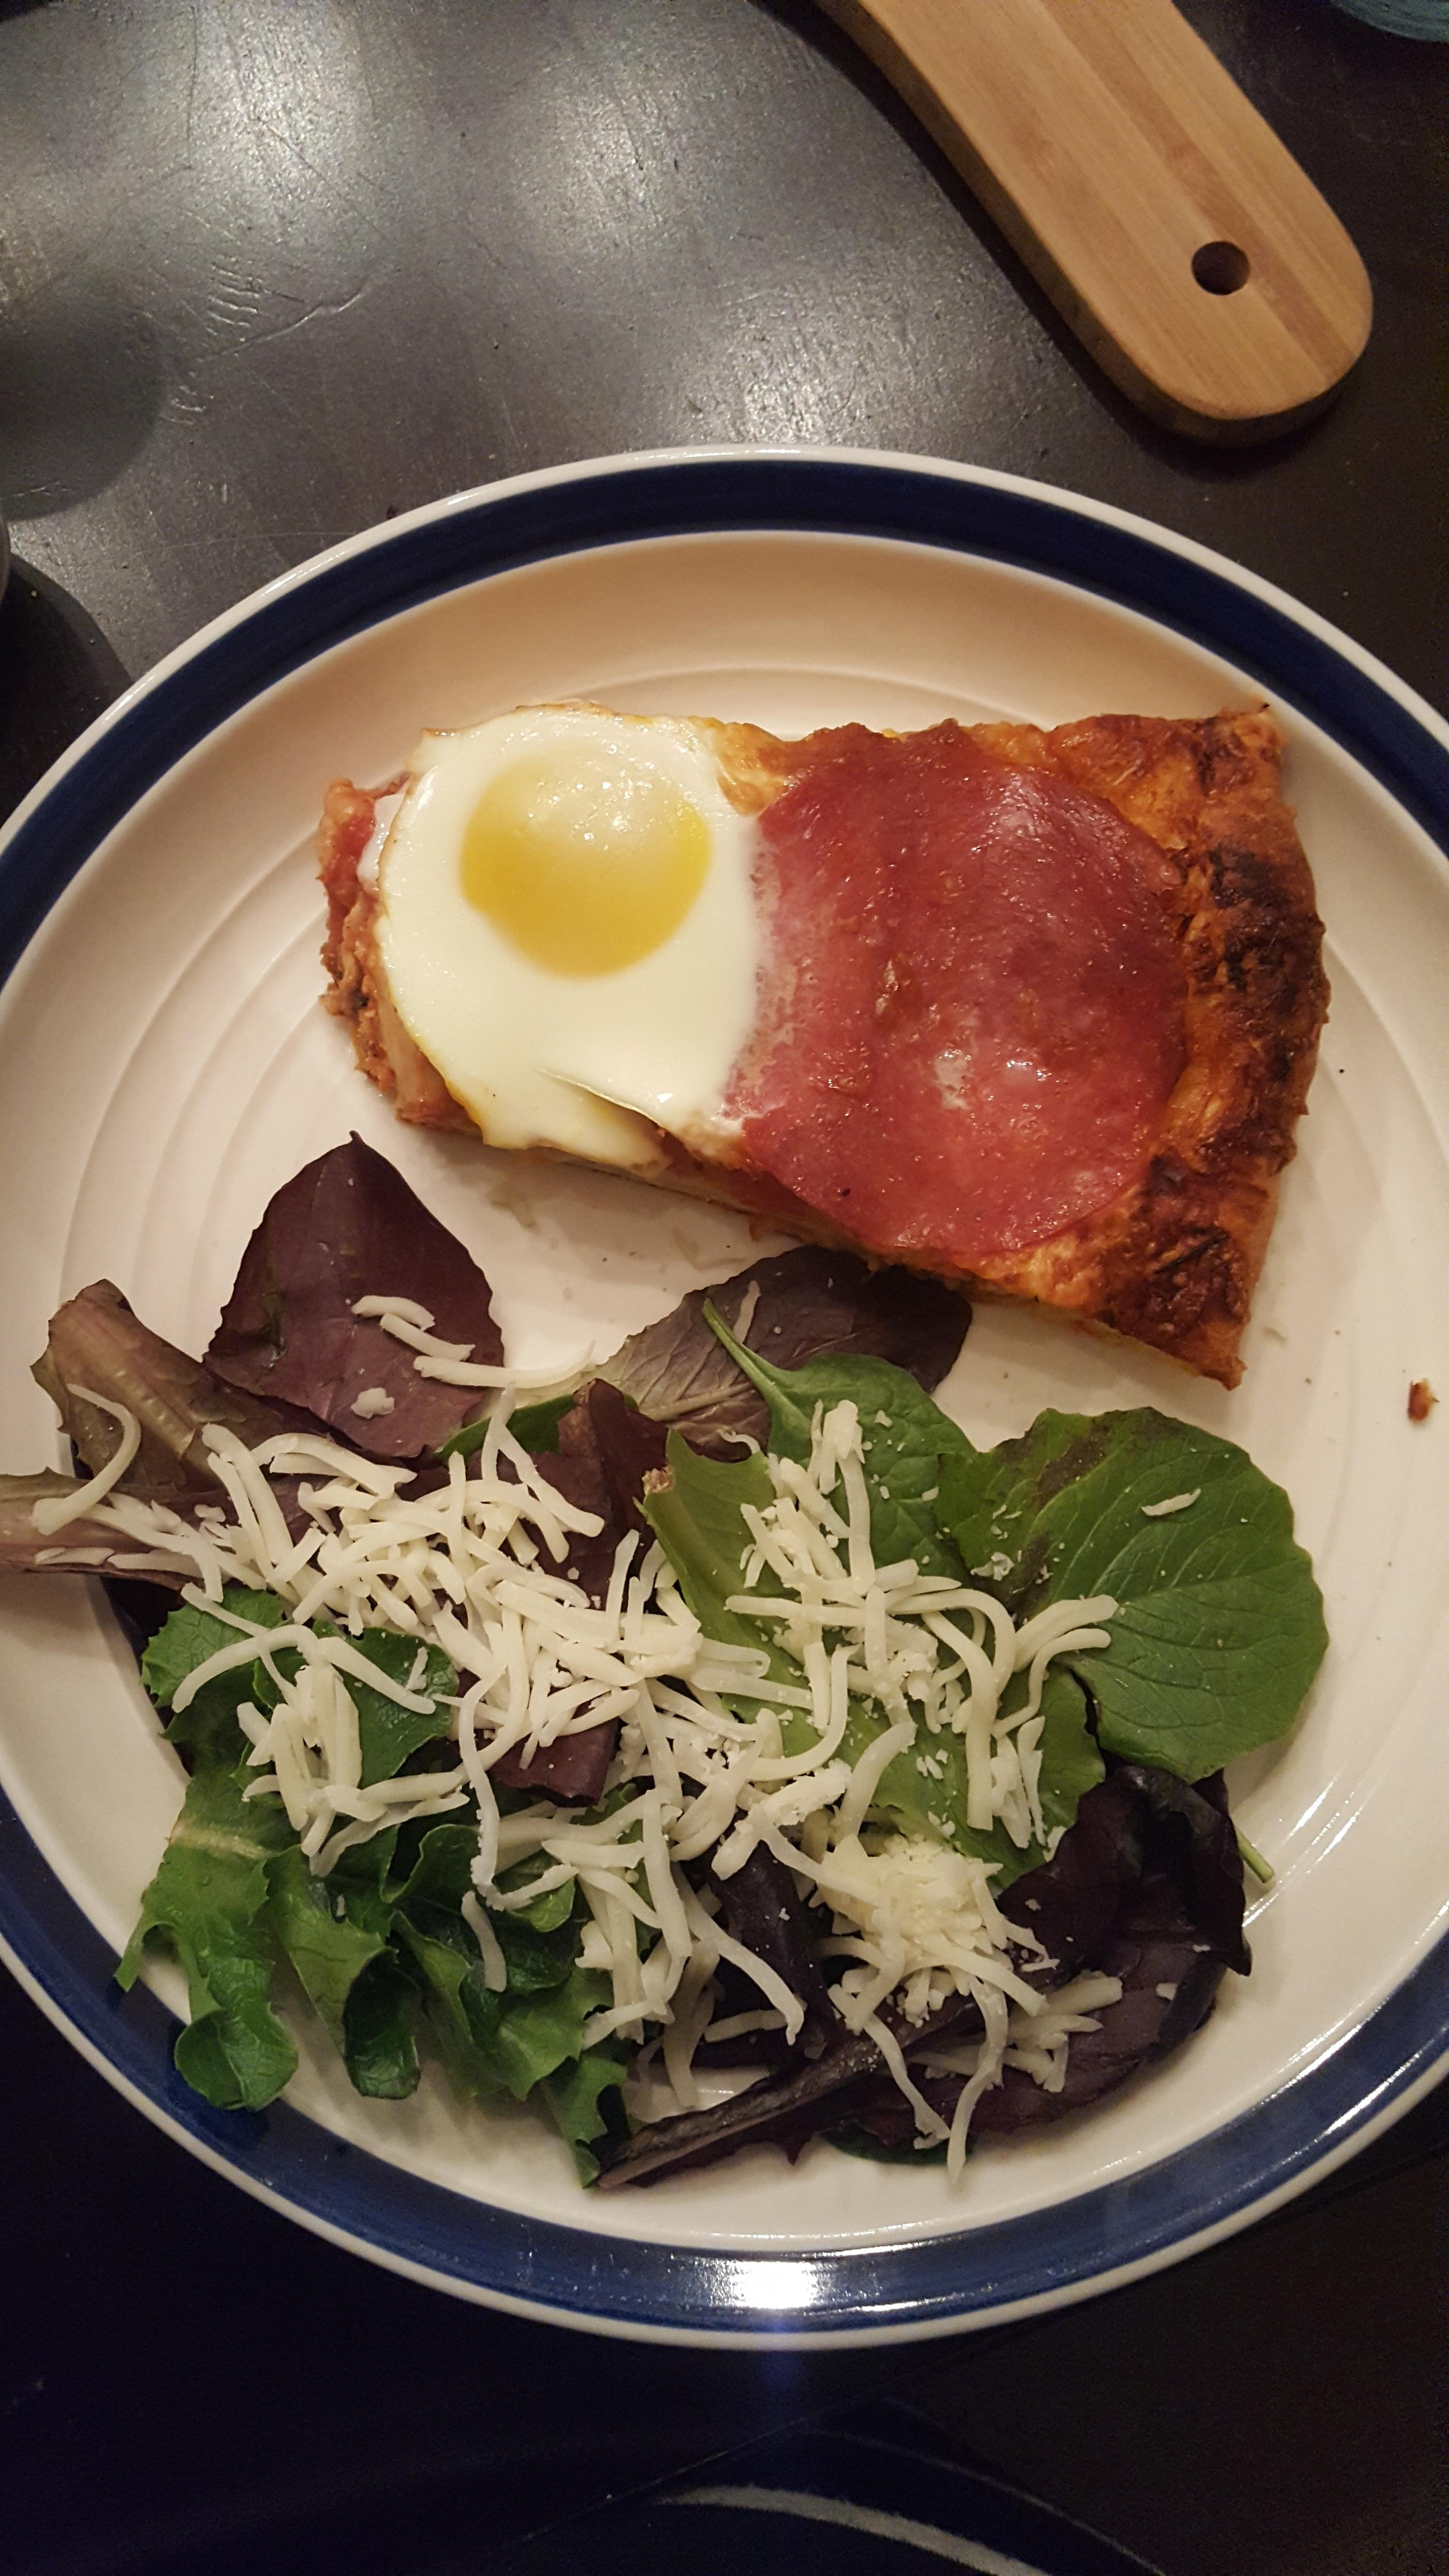chopped lettuce: (97, 1681, 605, 2127), (842, 1382, 1311, 1782)
fried egg: (396, 734, 747, 1150)
